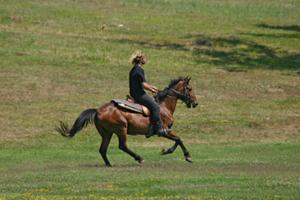person: (129, 50, 173, 138)
